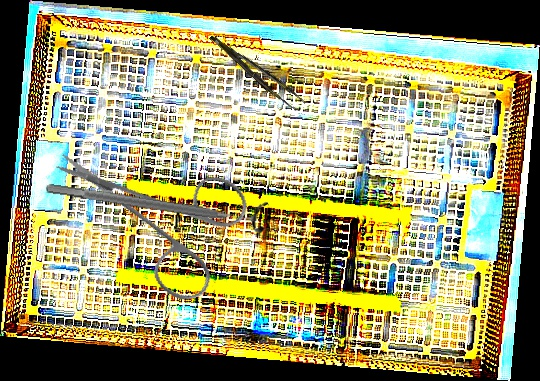Fixation Ring: (43, 170, 270, 237)
Iris Scissors: (53, 109, 269, 325)
Tissue Forceps: (208, 24, 307, 117)
